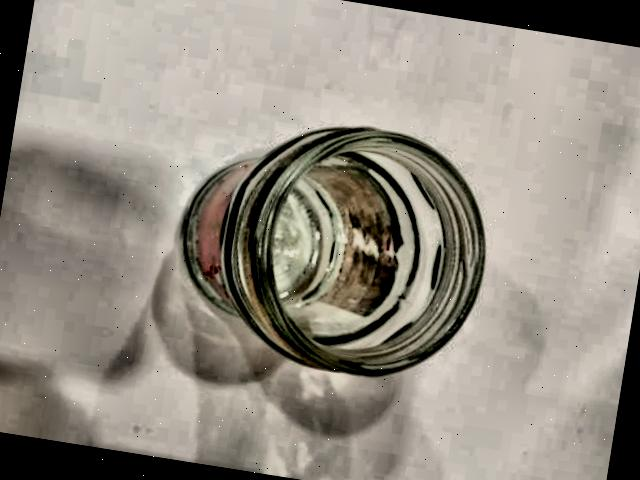Almennt: (132, 72, 514, 427)
